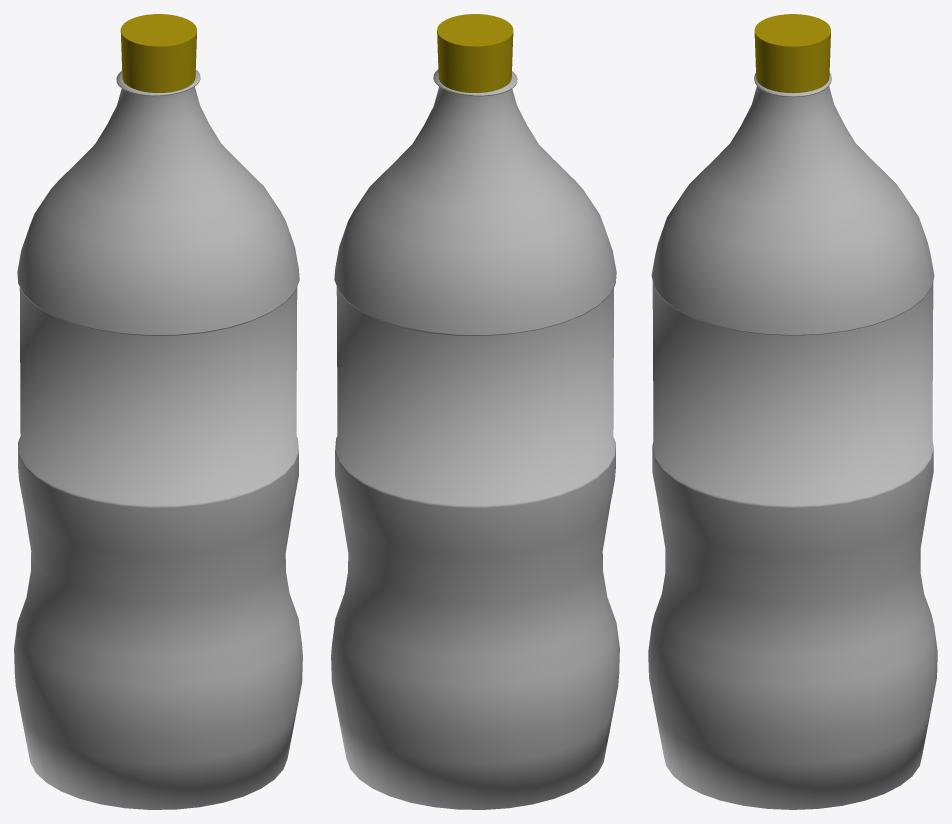
File: Soda_Mine.fbx
3 renders of one model, left to right at view 1: azimuth 30°, elevation 25°; view 2: azimuth 150°, elevation 25°; view 3: azimuth 270°, elevation 25°, orthographic.
Parts seen in each view (by area): view 1: Soda_Bottle_SM, SODA_CAP_SM; view 2: Soda_Bottle_SM, SODA_CAP_SM; view 3: Soda_Bottle_SM, SODA_CAP_SM.
Boxes of the visible parts, <box> form: Soda_Bottle_SM: <box>14,69,302,809</box>; SODA_CAP_SM: <box>120,14,196,92</box>; Soda_Bottle_SM: <box>331,69,619,809</box>; SODA_CAP_SM: <box>437,14,513,92</box>; Soda_Bottle_SM: <box>648,72,937,809</box>; SODA_CAP_SM: <box>754,14,830,93</box>.
Bounding box in the file's own units: 83.44 × 83.44 × 231.
